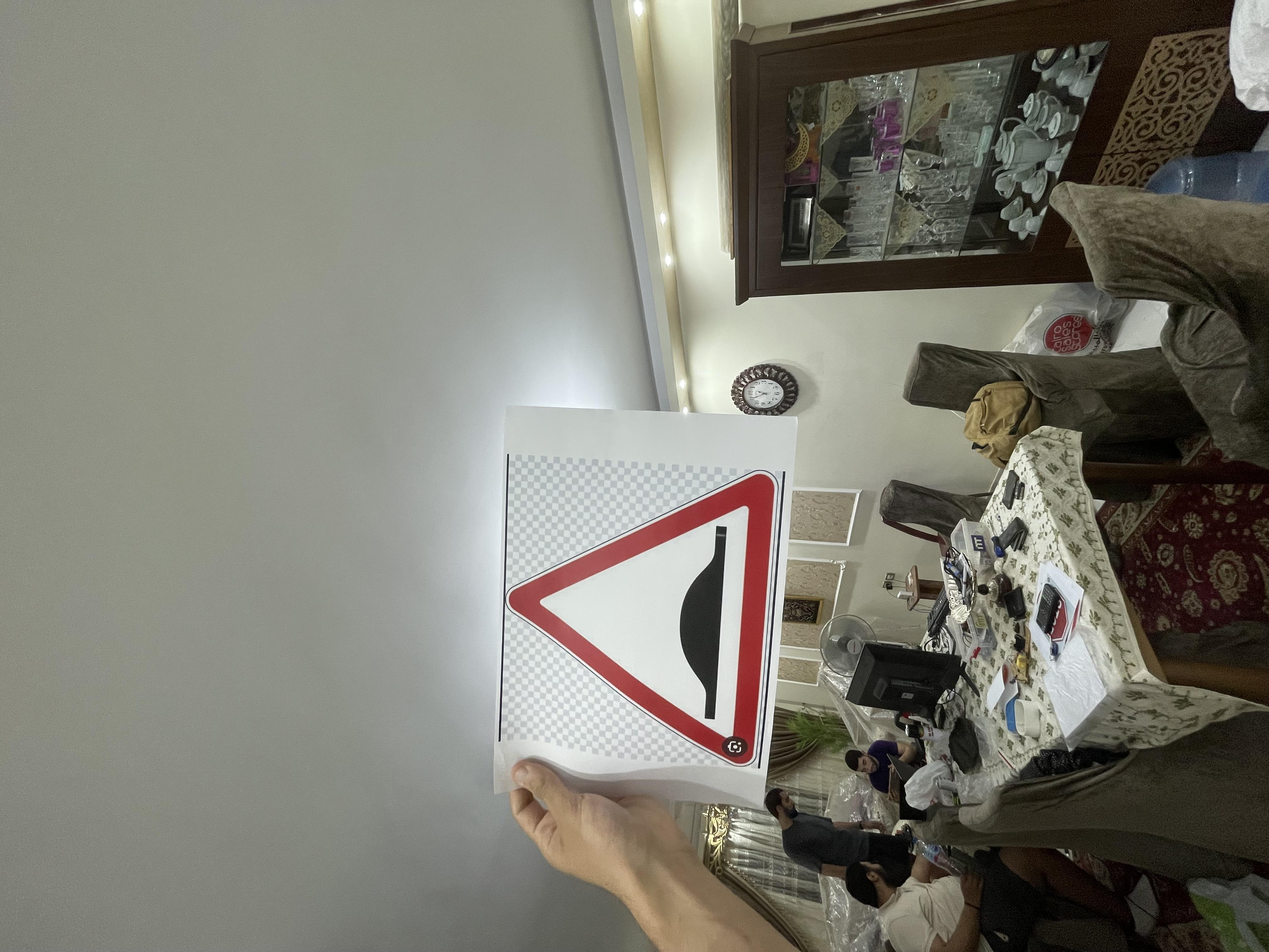Hump: (241, 374, 647, 572)
